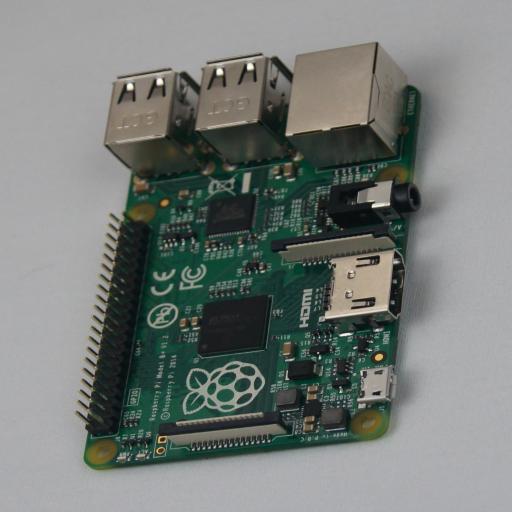Raspberry Pi 1 B-: (76, 42, 432, 470)
